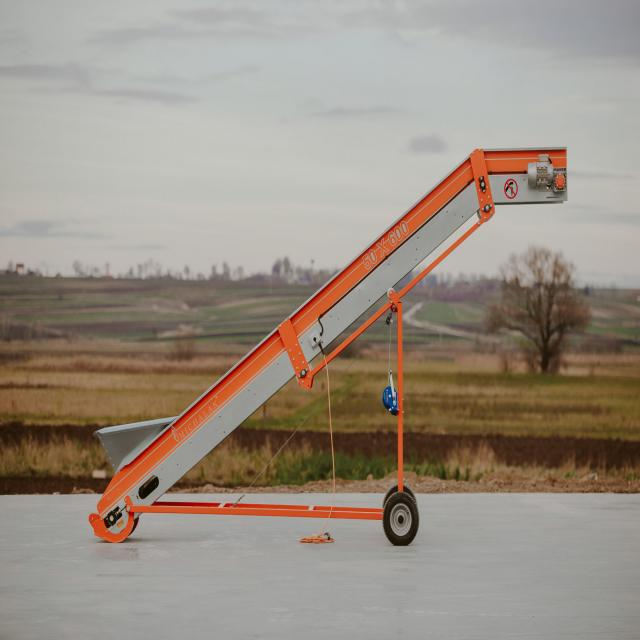Convoyeur: (86, 142, 570, 542)
